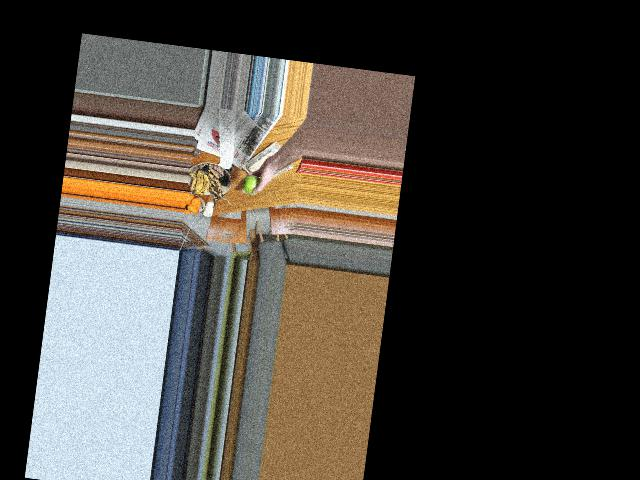apple: (240, 170, 264, 196)
